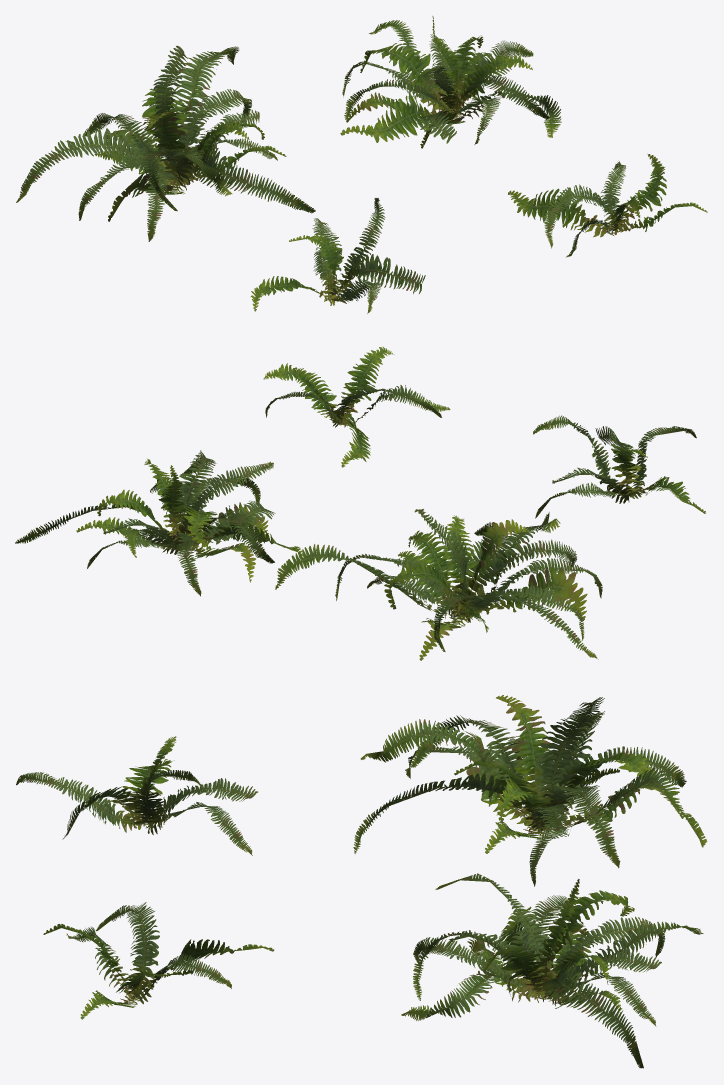
The model's file is fern_02.glb.
The picture shows the model from 3 angles, top to bottom: view 1: azimuth 30°, elevation 25°; view 2: azimuth 150°, elevation 25°; view 3: azimuth 270°, elevation 25°; orthographic projection. The views are drawn at different scales.
Parts seen in each view (by area): view 1: fern_02_b, fern_02_c, fern_02_a, fern_02_d; view 2: fern_02_b, fern_02_c, fern_02_d, fern_02_a; view 3: fern_02_b, fern_02_c, fern_02_a, fern_02_d.
Boxes of the visible parts, bbox=[...] form: fern_02_b: bbox=[16, 45, 315, 241]; fern_02_c: bbox=[340, 16, 561, 148]; fern_02_a: bbox=[250, 198, 425, 313]; fern_02_d: bbox=[508, 154, 707, 257]; fern_02_b: bbox=[275, 509, 602, 660]; fern_02_c: bbox=[15, 450, 303, 596]; fern_02_d: bbox=[263, 346, 450, 467]; fern_02_a: bbox=[533, 415, 705, 518]; fern_02_b: bbox=[353, 695, 707, 886]; fern_02_c: bbox=[401, 873, 703, 1068]; fern_02_a: bbox=[16, 736, 257, 855]; fern_02_d: bbox=[43, 902, 274, 1019].
Size of the model in its own units: 1.97 by 0.4277 by 1.72.
Materials: 1 (1 with a texture image).
